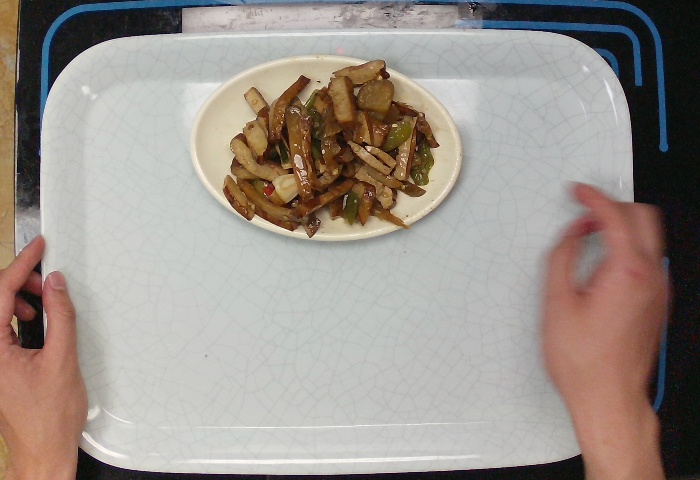JYsf-Tuo_Yuan_Wan: (188, 55, 465, 242)
